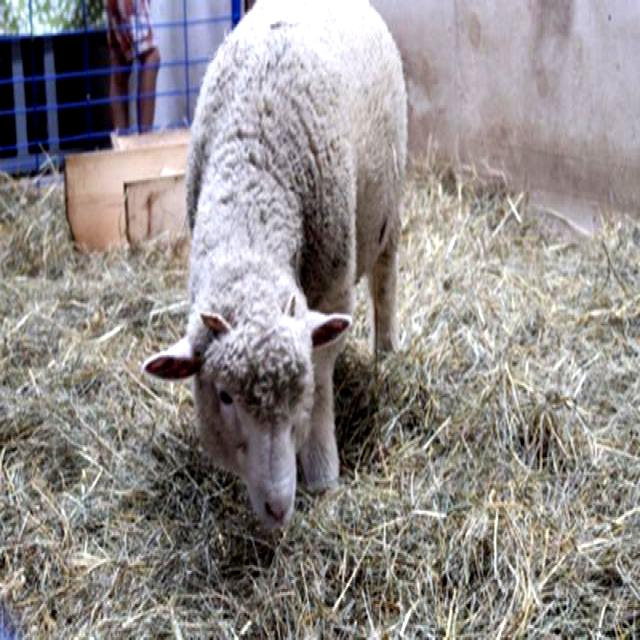sheep: (137, 2, 406, 528)
